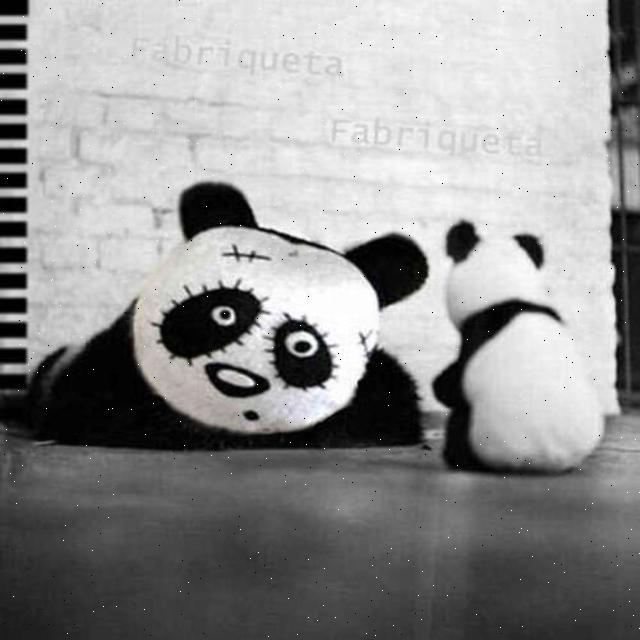panda: (0, 173, 429, 444), (428, 217, 608, 478)
